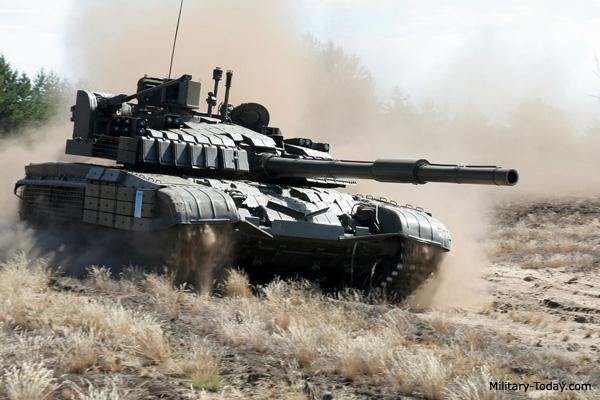tank: (13, 67, 521, 309)
